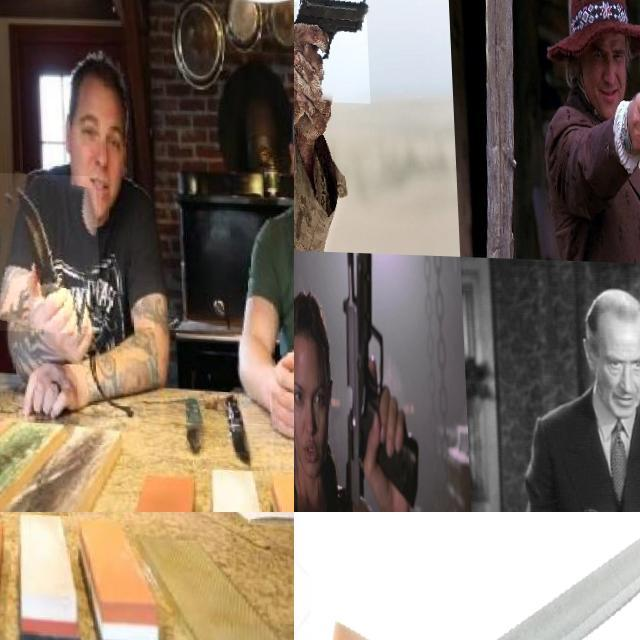-: (300, 512, 640, 640), (0, 172, 98, 333), (36, 512, 112, 581), (0, 512, 40, 586)
gun-knife-thesis - v11 Yolov5 augmented: (321, 253, 416, 512), (294, 245, 341, 479), (294, 0, 368, 101), (561, 496, 606, 512)
